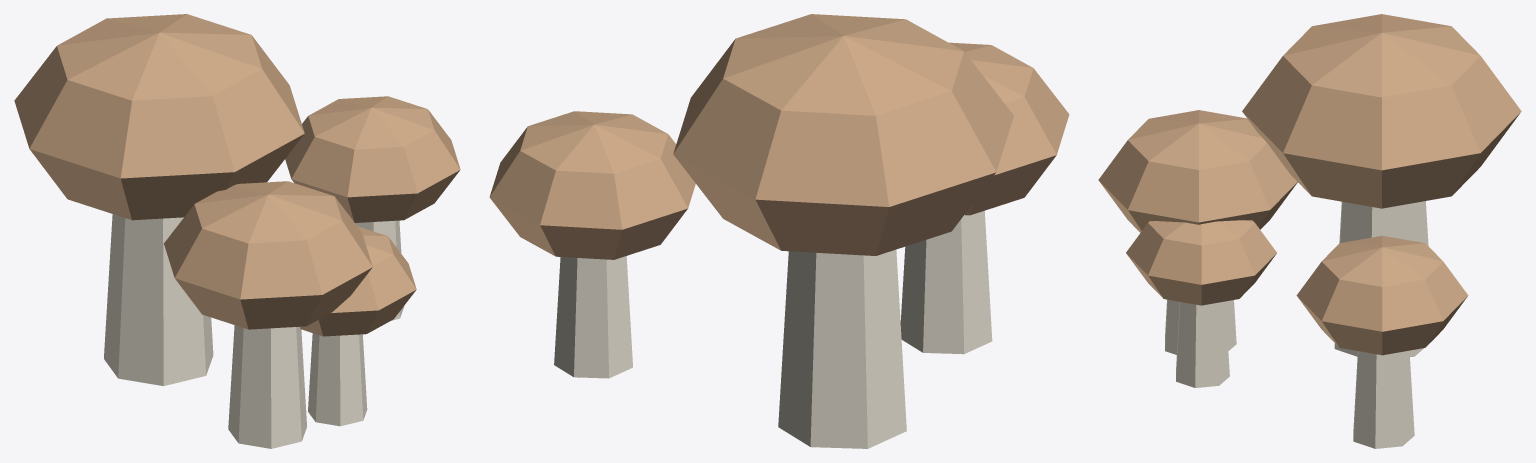
The model's file is mushrooms_brown.glb.
3 views of the same model, side by side, from view 1: azimuth 30°, elevation 25°; view 2: azimuth 150°, elevation 25°; view 3: azimuth 270°, elevation 25° (orthographic). The views are drawn at different scales.
Visible parts, largest first — view 1: mushrooms_brown; view 2: mushrooms_brown; view 3: mushrooms_brown.
Boxes of the visible parts, x1,y1,x2,y2 form: mushrooms_brown: [14, 14, 460, 448]; mushrooms_brown: [489, 14, 1069, 448]; mushrooms_brown: [1098, 14, 1521, 448].
Bounding box in the file's own units: 0.6487 × 0.484 × 0.6055.
